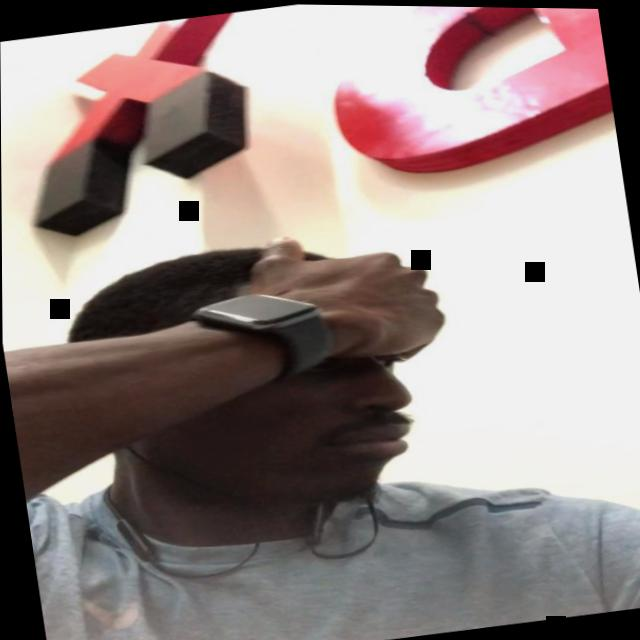NO-Mask: (124, 280, 427, 533)
